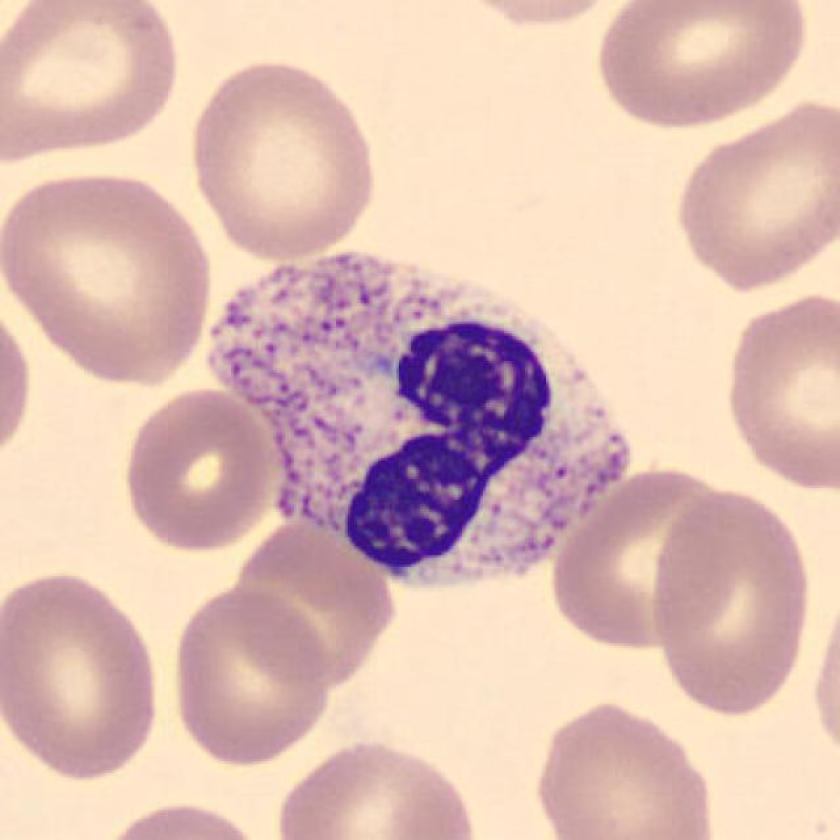neutrophil: (212, 253, 634, 589)
